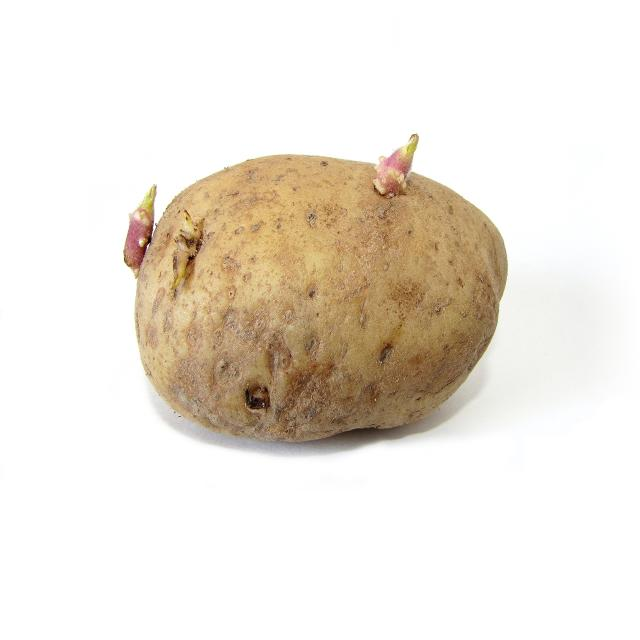potato: (134, 154, 508, 446)
